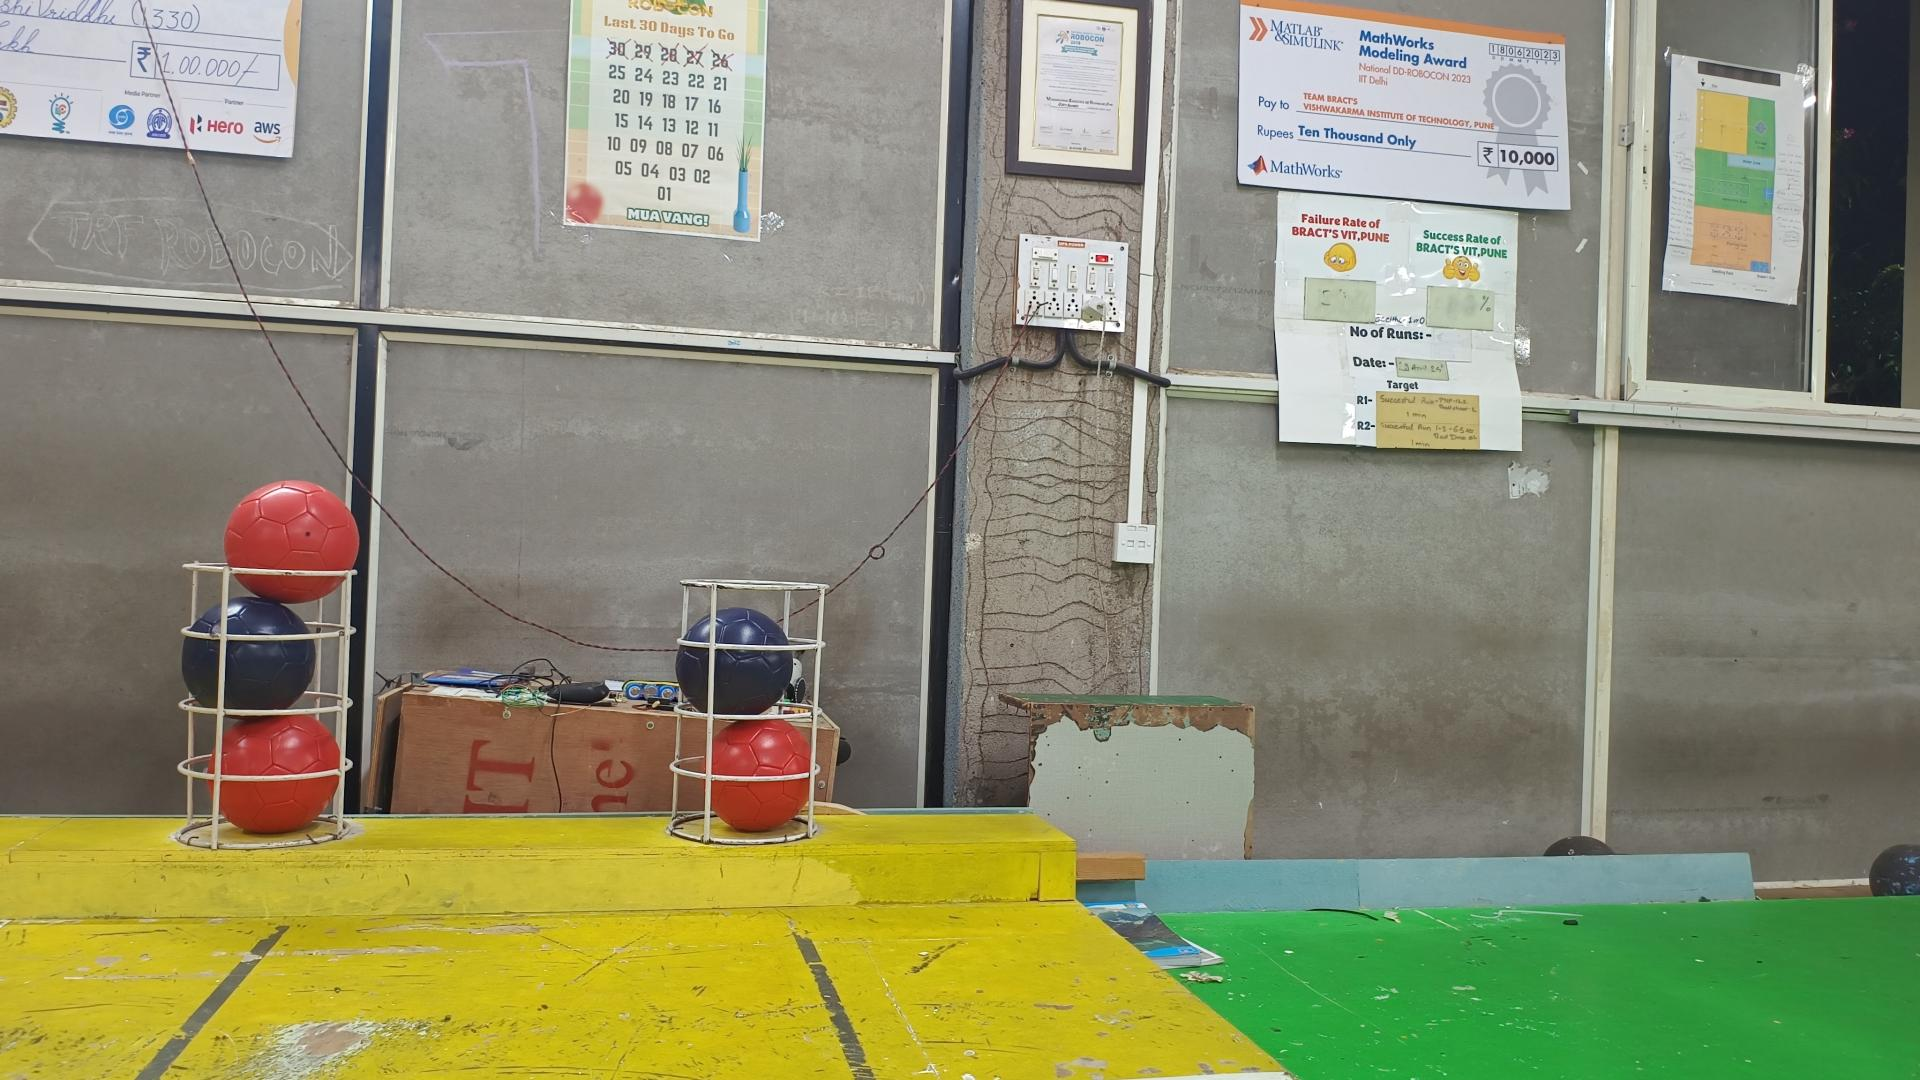dhoka: (181, 597, 315, 709), (676, 607, 793, 715)
laale: (222, 481, 361, 605), (206, 715, 340, 835), (696, 717, 812, 829)
